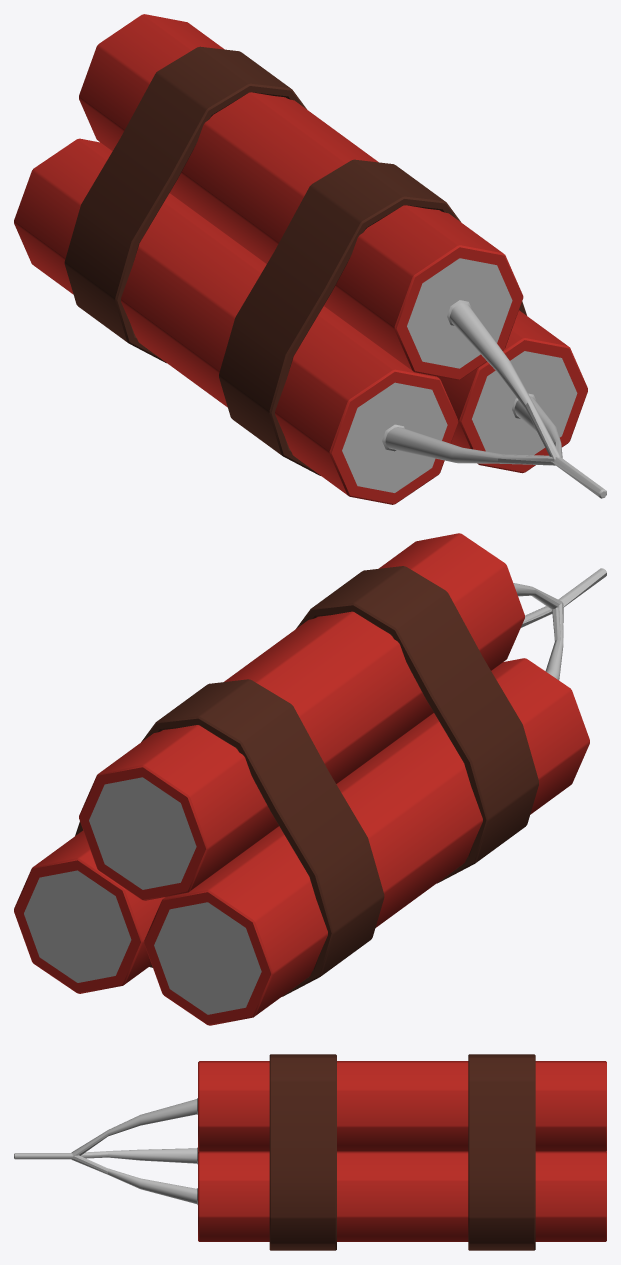
File: dynamite.fbx
3 renders of one model, top to bottom at view 1: azimuth 30°, elevation 25°; view 2: azimuth 150°, elevation 25°; view 3: azimuth 270°, elevation 25°, orthographic. The views are drawn at different scales.
Parts seen in each view (by area): view 1: dynamite; view 2: dynamite; view 3: dynamite.
Boxes of the visible parts, x1,y1,x2,y2 form: dynamite: (14, 14, 606, 504); dynamite: (14, 533, 606, 1025); dynamite: (14, 1054, 606, 1250).
Size of the model in its own units: 43.17 by 40.52 by 129.
